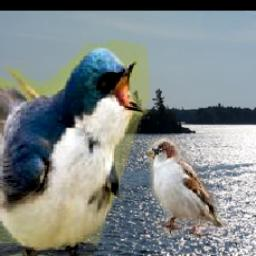Sparrow: (148, 139, 235, 239)
Swallow: (0, 41, 150, 256)
